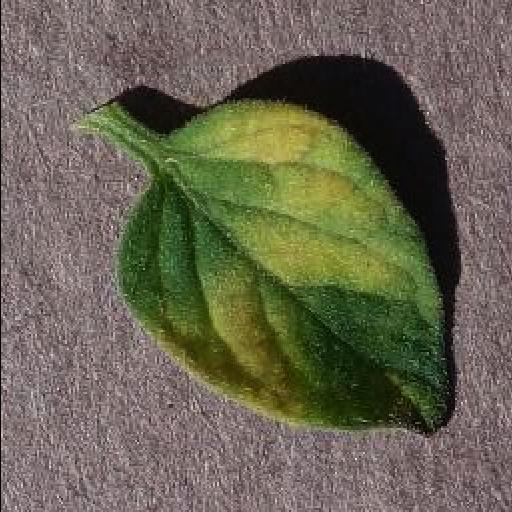disease_tomato: (120, 100, 458, 436)
